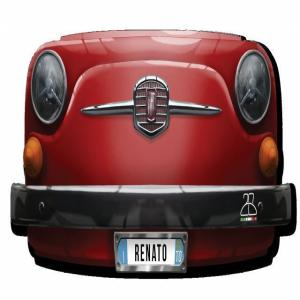Plate: (115, 233, 189, 274)
